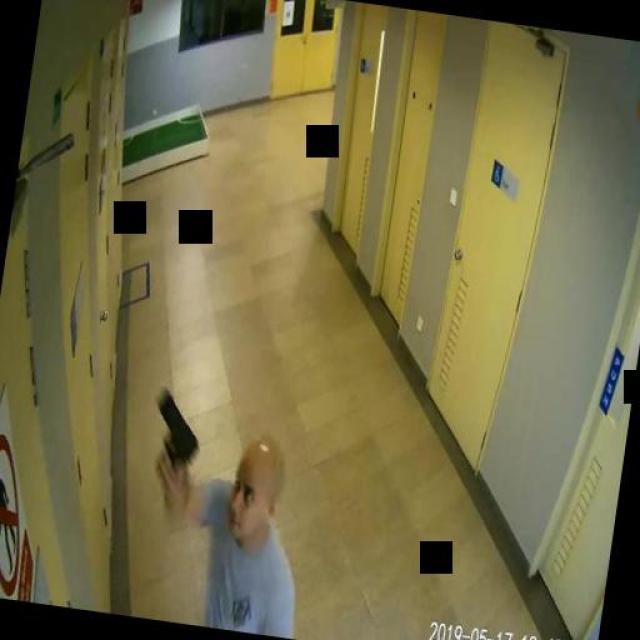gun: (146, 388, 204, 478)
